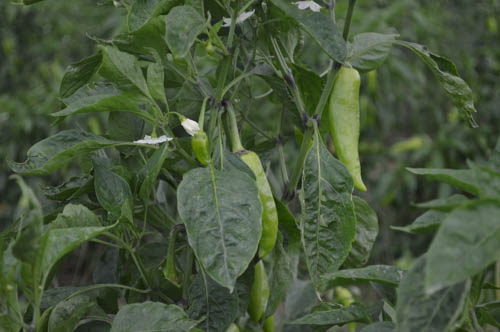ChiliPepper: (321, 61, 376, 192), (233, 145, 289, 254), (245, 246, 271, 326), (189, 123, 215, 170)
